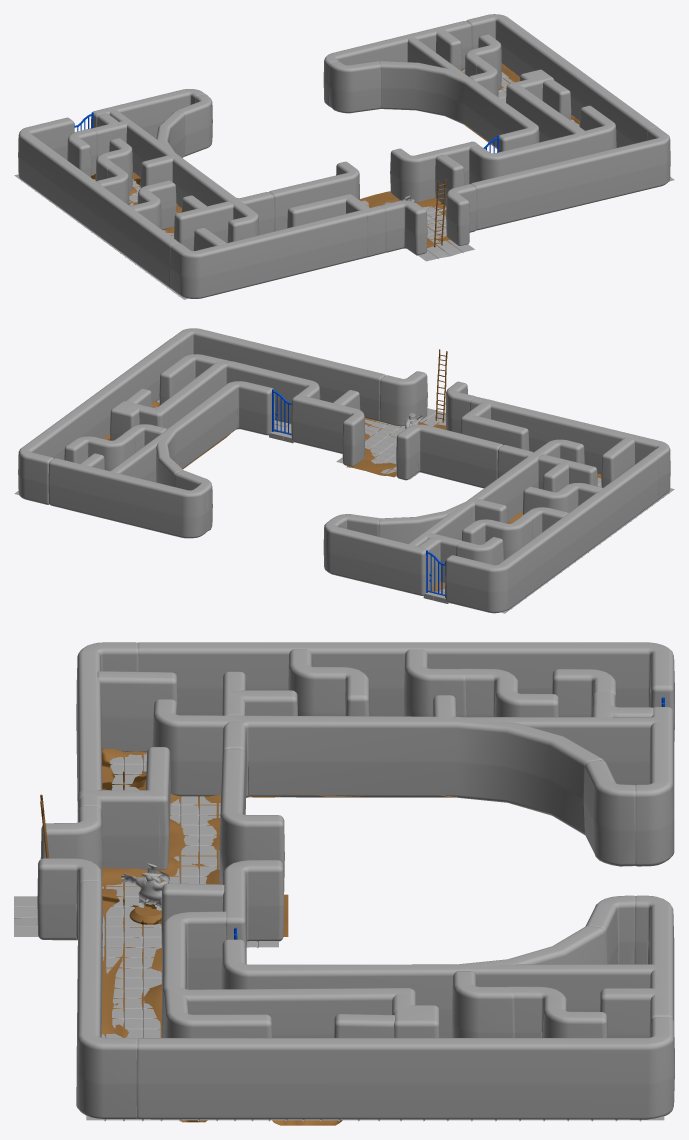
File: TownhallSection.fbx
The picture shows the model from 3 angles, top to bottom: view 1: azimuth 30°, elevation 25°; view 2: azimuth 150°, elevation 25°; view 3: azimuth 270°, elevation 25°; orthographic projection. The views are drawn at different scales.
Visible parts, largest first — view 1: MazeLeft, MazeRight, Tiles, Ground; view 2: MazeRight, MazeLeft, Tiles, Ground, Exit; view 3: MazeLeft, MazeRight, Tiles, Ground, MayorStatue.
Part boxes in pixels (bbox=[...]): MazeLeft: bbox=[323, 14, 670, 245]; MazeRight: bbox=[18, 89, 427, 298]; Tiles: bbox=[14, 69, 674, 299]; Ground: bbox=[91, 63, 579, 248]; MazeRight: bbox=[323, 381, 670, 613]; MazeLeft: bbox=[18, 328, 427, 538]; Tiles: bbox=[14, 399, 674, 613]; Ground: bbox=[103, 401, 601, 592]; Exit: bbox=[426, 550, 445, 597]; MazeLeft: bbox=[37, 858, 674, 1119]; MazeRight: bbox=[40, 642, 674, 891]; Tiles: bbox=[14, 752, 664, 1121]; Ground: bbox=[101, 748, 458, 1125]; MayorStatue: bbox=[121, 863, 169, 910].
Size of the model in its own units: 44.05 by 6.55 by 30.21.
4 materials, 1 textured.
